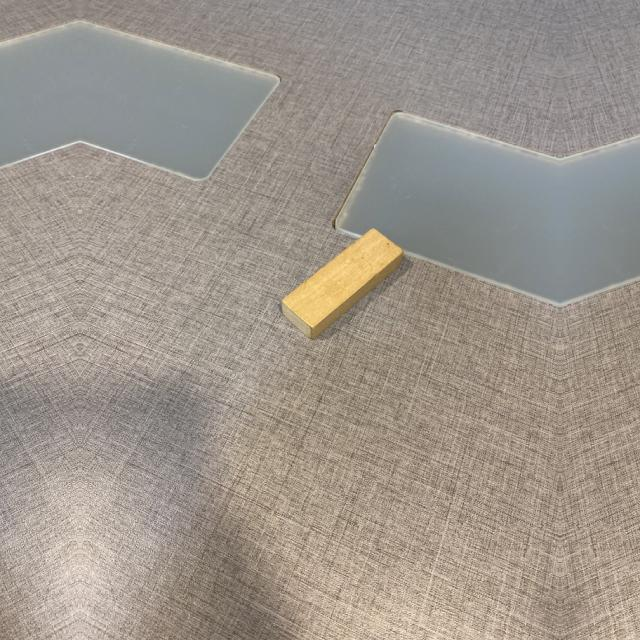jenga: (280, 230, 404, 340)
